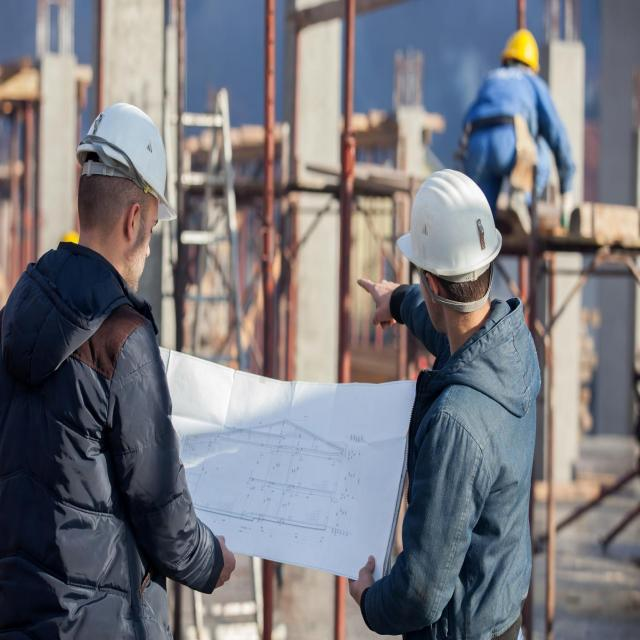Reflective-Jacket: (0, 251, 195, 640)
Safety-Helmet: (73, 96, 180, 222), (397, 163, 504, 281), (499, 26, 543, 74)
